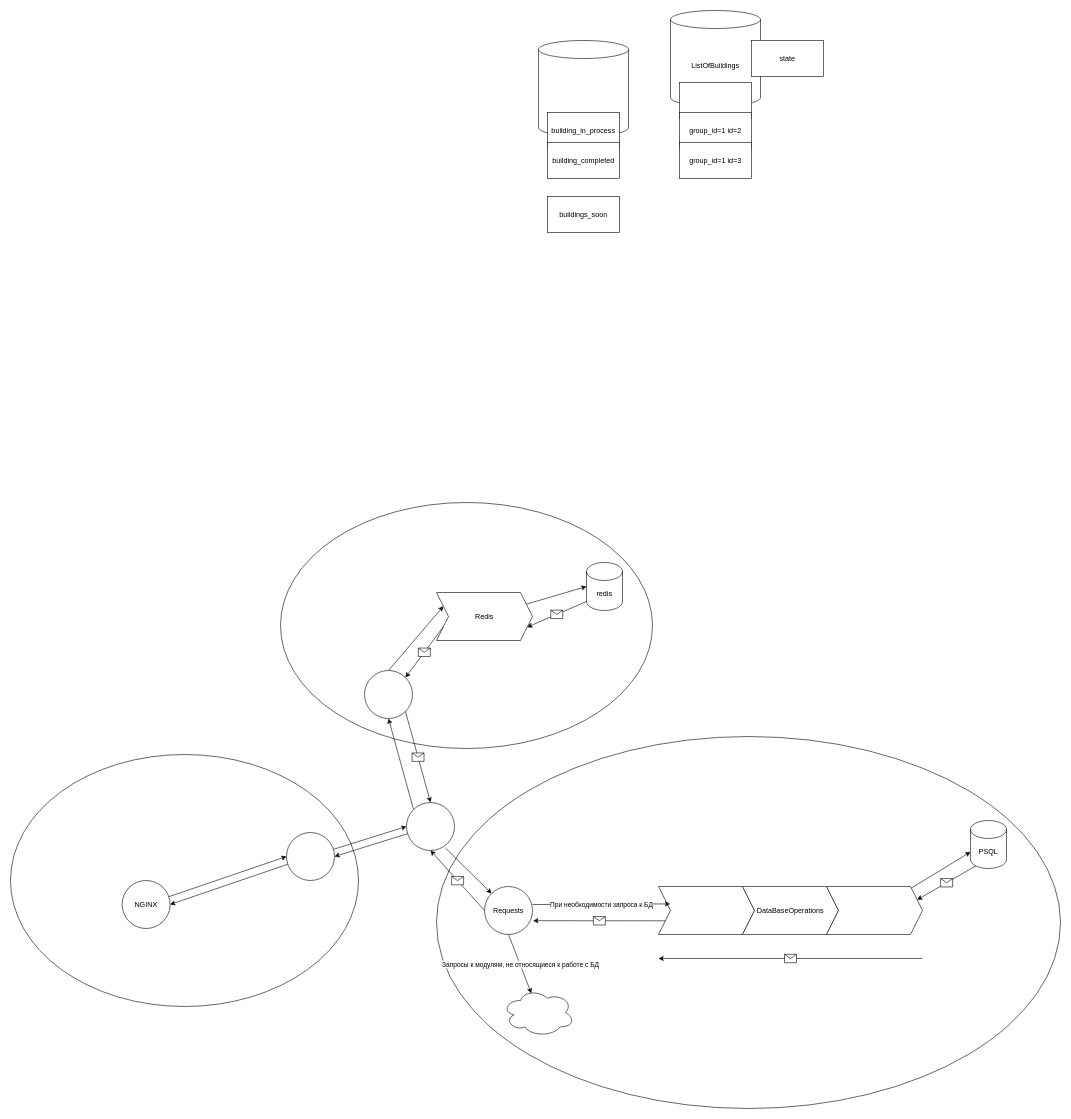
This 1071x1119 diagram has some shape labels left out. Here are the shapes that lost their labels. From the top down, the box of each, then its label:
(538, 40, 628, 136): ListOfBuilders
(679, 82, 752, 118): group_id=1 id=1
(364, 670, 412, 718): redis_worker
(406, 802, 454, 850): Flask
(286, 832, 334, 880): Gunicorn
(658, 886, 754, 934): DataBaseRequests
(826, 886, 922, 934): peewee
